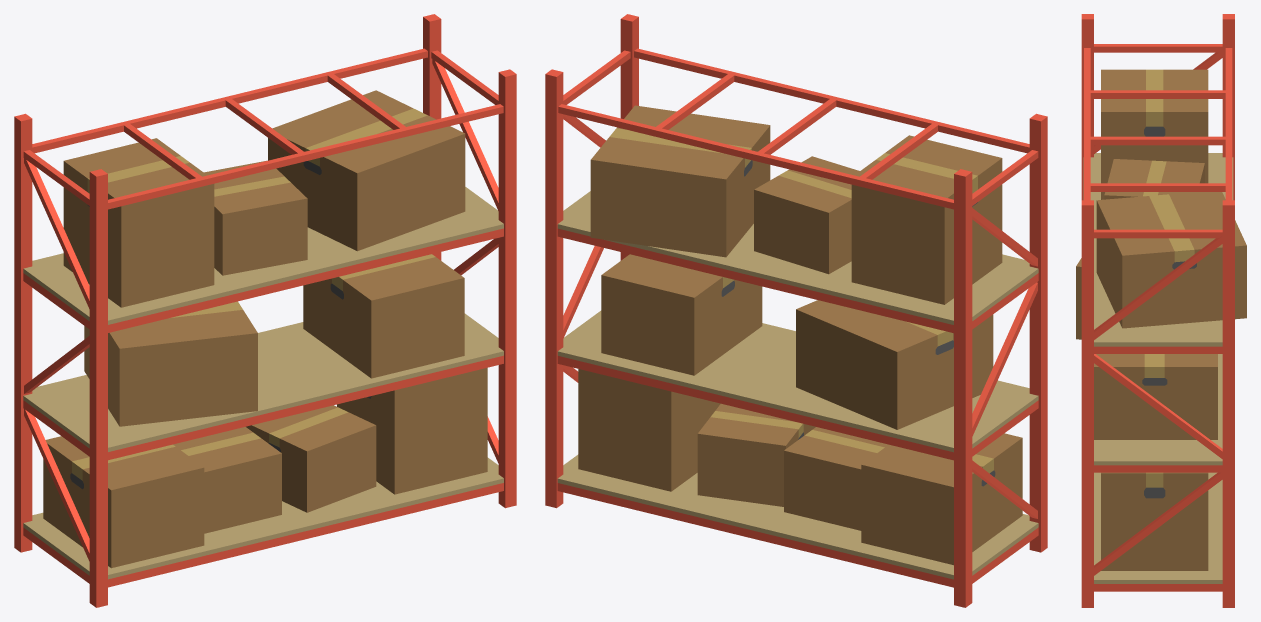
The model's file is box_cabinet_0324.fbx.
The picture shows the model from 3 angles, left to right: view 1: azimuth 30°, elevation 25°; view 2: azimuth 150°, elevation 25°; view 3: azimuth 270°, elevation 25°; orthographic projection. The views are drawn at different scales.
Parts seen in each view (by area): view 1: Box006; view 2: Box006; view 3: Box006.
Part boxes in pixels (x1=…): Box006: x1=14, y1=14, x2=516, y2=607; Box006: x1=545, y1=14, x2=1047, y2=607; Box006: x1=1076, y1=14, x2=1246, y2=607.
Bounding box in the file's own units: 259 × 254 × 97.59.
Materials: 1 (1 with a texture image).
